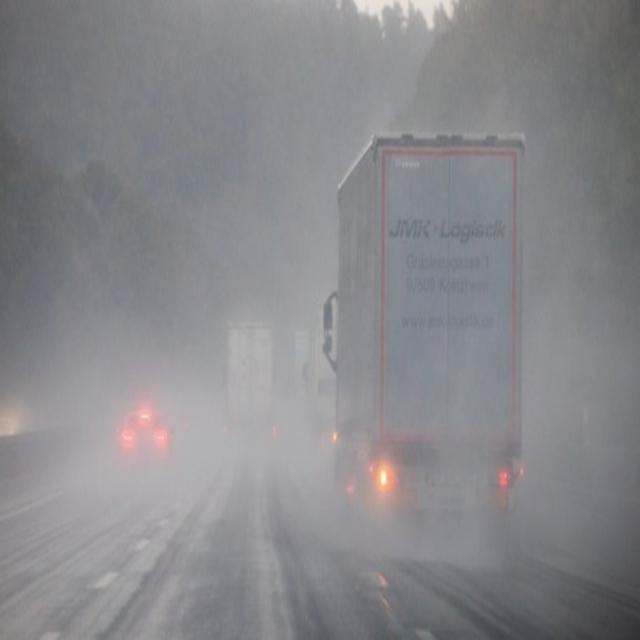bus: (314, 133, 524, 536), (221, 321, 281, 470), (298, 296, 340, 484)
car: (121, 411, 175, 466)
